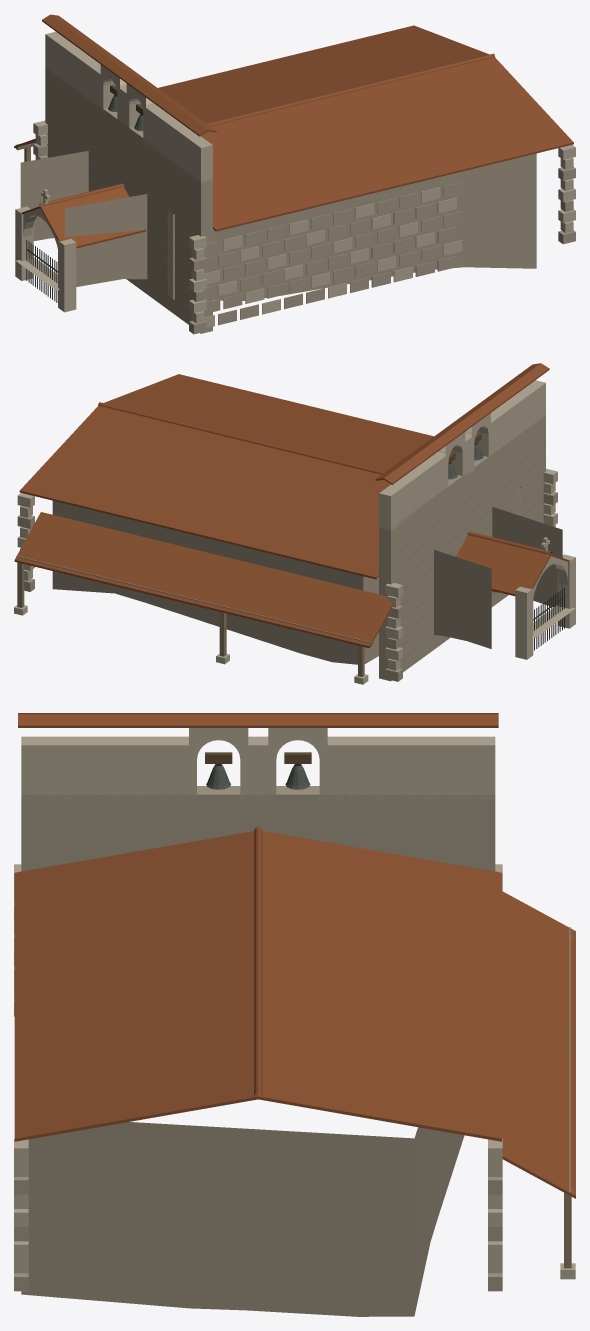
Rendered from ermita.glb.
3 renders of one model, top to bottom at view 1: azimuth 30°, elevation 25°; view 2: azimuth 150°, elevation 25°; view 3: azimuth 270°, elevation 25°, orthographic. The views are drawn at different scales.
Parts seen in each view (by area): view 1: oca:ermita; view 2: oca:ermita; view 3: oca:ermita.
Boxes of the visible parts, x1,y1,x2,y2 form: oca:ermita: (14, 14, 575, 334); oca:ermita: (14, 363, 575, 684); oca:ermita: (14, 713, 575, 1316).
Bounding box in the file's own units: 25.1 × 11.61 × 17.43.
